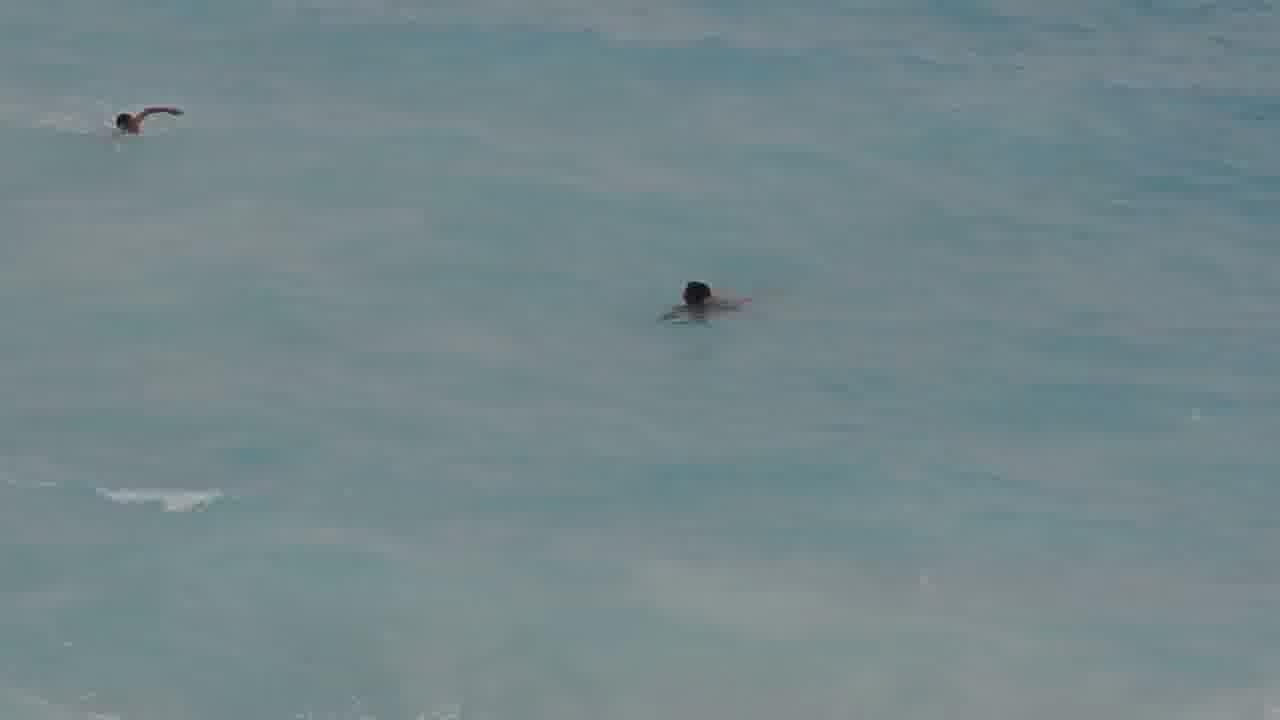swimmer: (656, 258, 725, 319), (106, 105, 175, 143)
